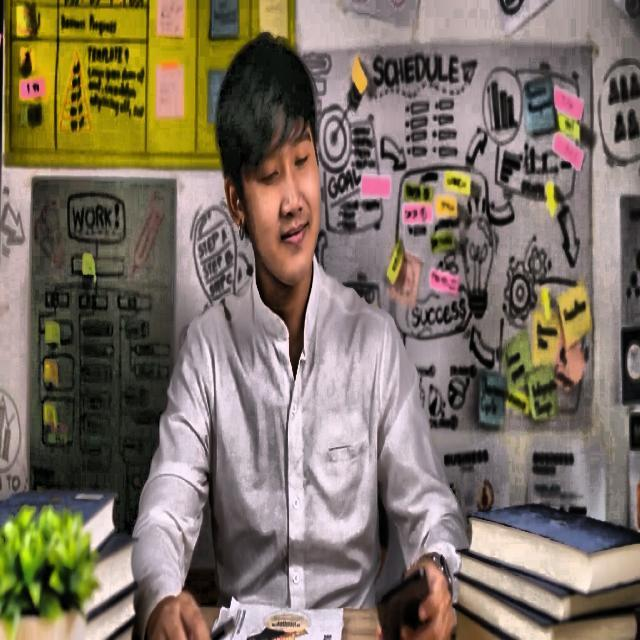Phone: (375, 565, 435, 640)
